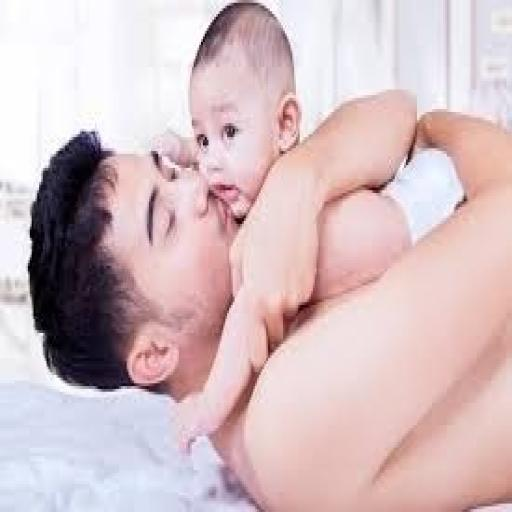hugging: (26, 0, 510, 509)
